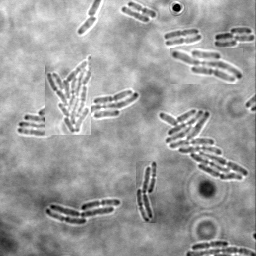Dividing: (128, 1, 157, 18), (166, 34, 202, 47), (164, 28, 200, 39), (192, 239, 229, 249)
Microcolony: (158, 109, 249, 180), (45, 54, 91, 135), (170, 48, 243, 84), (45, 199, 121, 224), (18, 101, 61, 136), (92, 88, 139, 119), (136, 161, 157, 223), (214, 27, 255, 48)
Rod: (121, 5, 150, 23), (78, 16, 99, 34)
